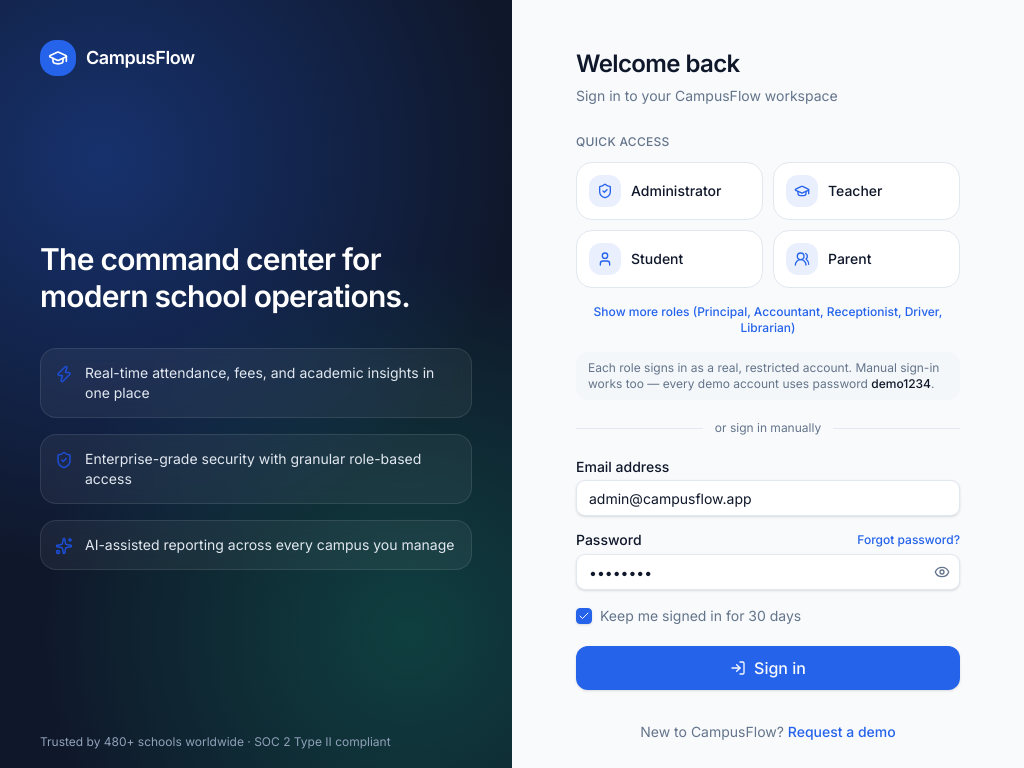
it: LoginPage — quick access roles › reveals the additional role buttons after clicking "Show more roles"
Click the button "Show more roles" at (768, 320), box [576, 304, 960, 336]
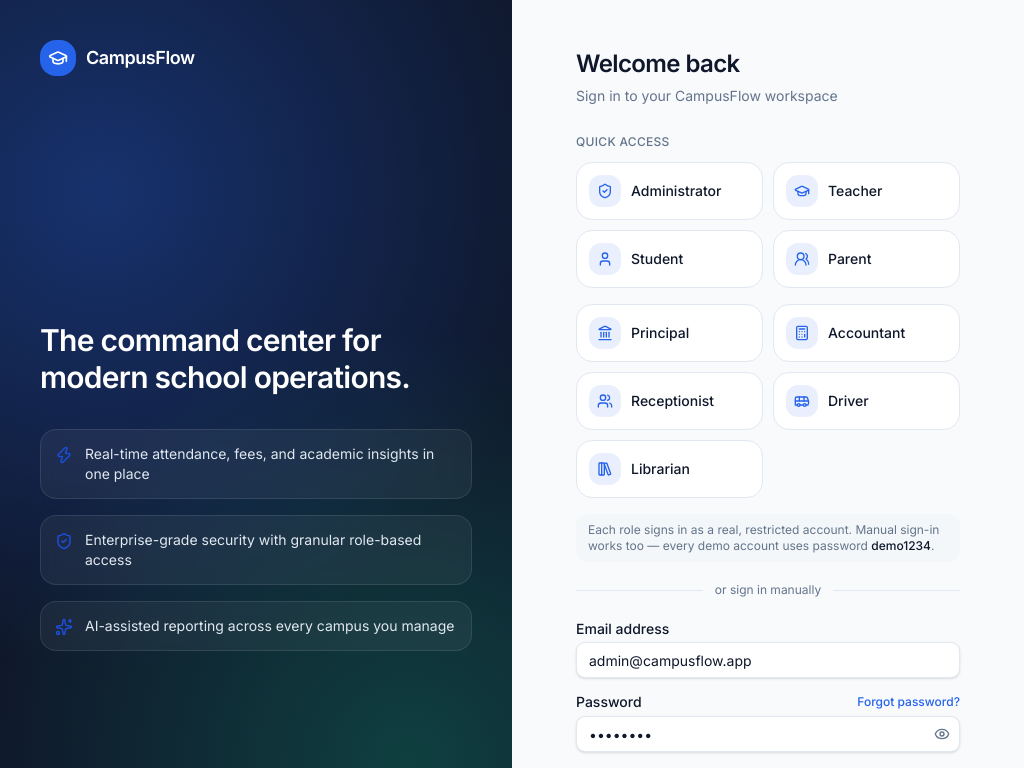
Expected: the button "Principal" is shown, [576, 304, 763, 362]
Expected: the button "Show more roles" is gone
